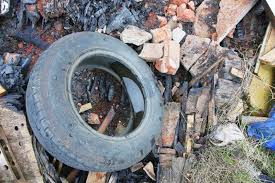tire: (25, 32, 163, 172)
